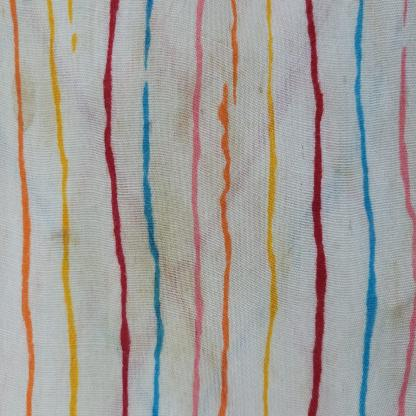spot: (132, 150, 213, 371), (138, 29, 204, 139), (150, 180, 191, 352), (9, 54, 38, 134), (262, 221, 295, 282), (49, 218, 85, 253), (339, 58, 353, 97), (257, 79, 265, 97)
